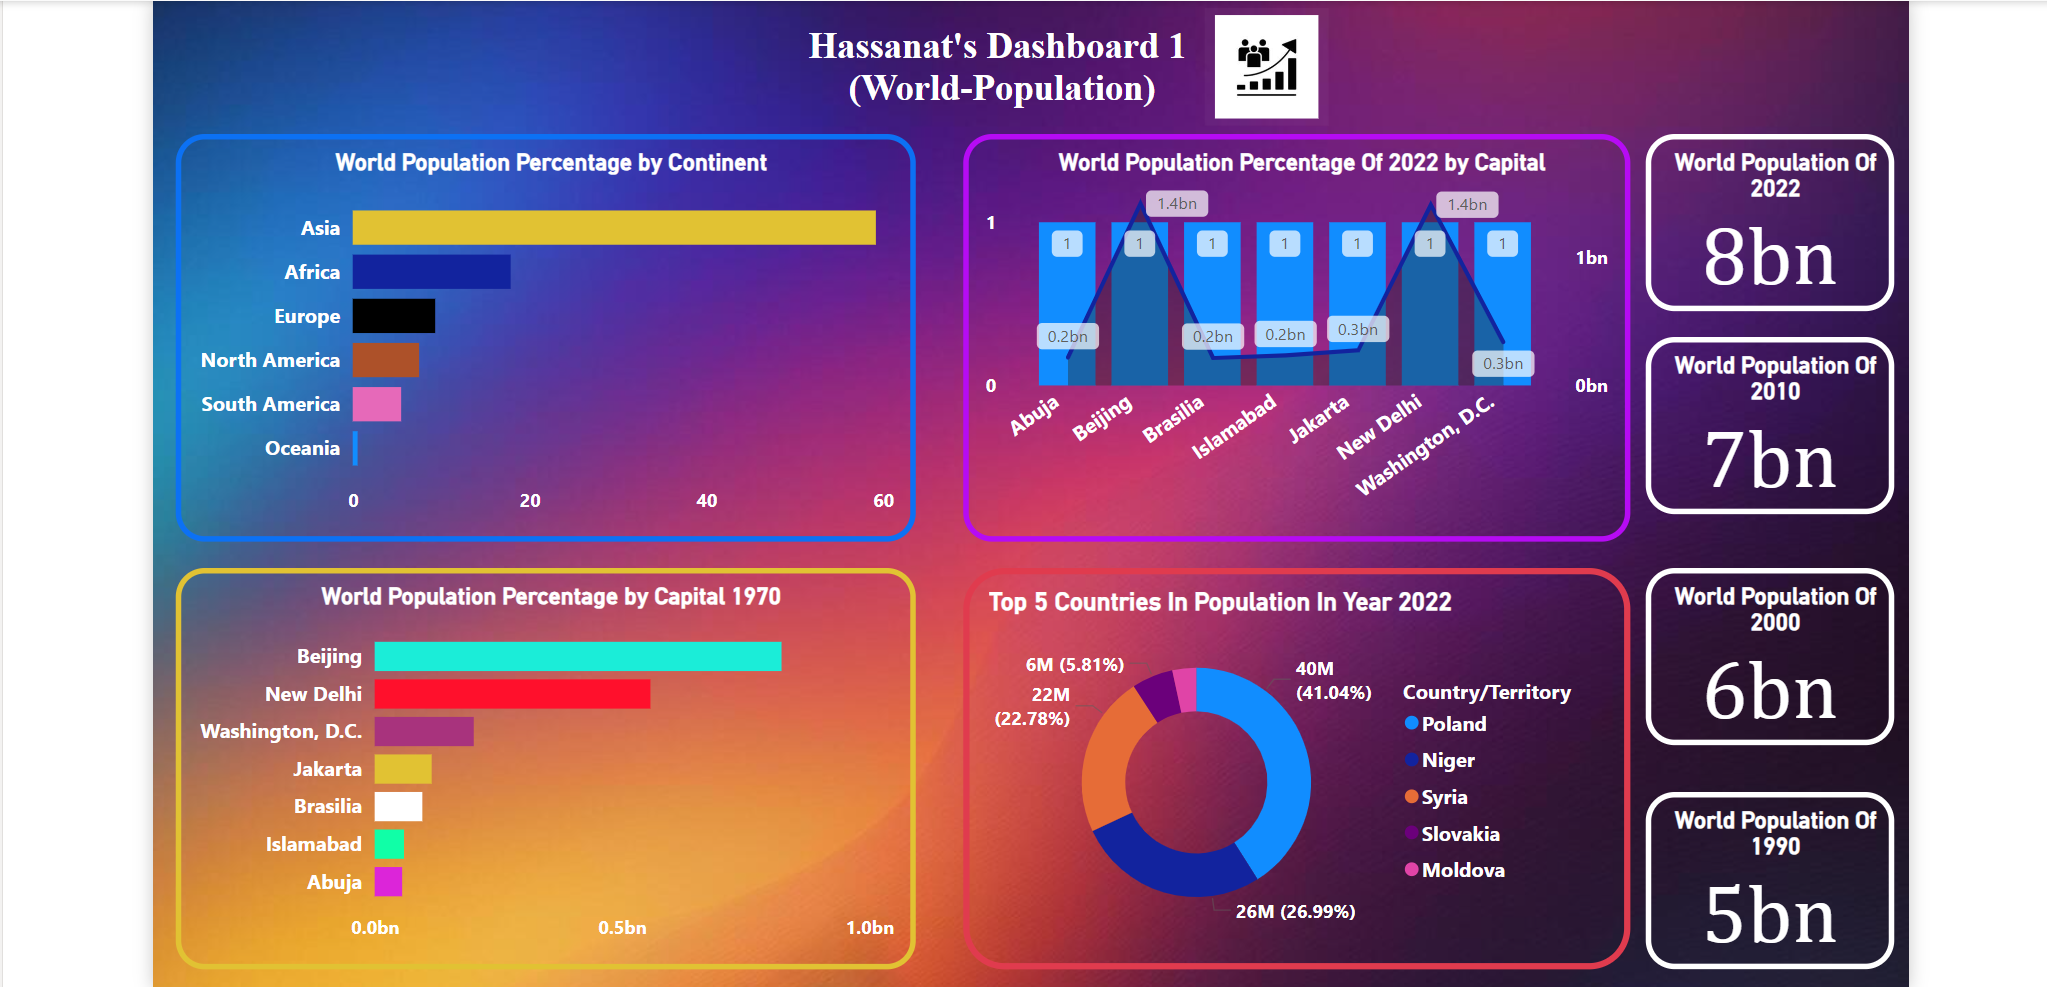

Layout of this report page (visuals, bound fields, positions):
{"tool":"powerbi","page":{"name":"Page 1","canvas":[1280,720],"ordinal":0},"visuals":[{"type":"textbox","box":[437,11.9,362.7,72.8],"z":0},{"type":"barChart","title":" World Population Percentage by Continent","fields":{"Category":["world_population.Continent"],"Y":["world_population.World Population Percentage"]},"box":[16.4,96.6,539.6,297.3],"z":1000},{"type":"barChart","title":" World Population Percentage by Capital 1970","fields":{"Category":["world_population.Capital"],"Y":["world_population.1970 Population"]},"box":[16.4,413.2,539.6,292.8],"z":2000},{"type":"lineStackedColumnComboChart","title":"World Population Percentage Of 2022 by Capital","fields":{"Y":["world_population.World Population Percentage"],"Category":["world_population.Capital"],"Y2":["world_population.2022 Population"]},"box":[590.1,96.6,486.1,297.3],"z":3000},{"type":"donutChart","title":"Top 5 Countries In Population In Year 2022 ","fields":{"Y":["world_population.2022 Population"],"Category":["world_population.Country/Territory"]},"box":[590.1,413.2,486.1,292.8],"z":4000},{"type":"card","title":"World Population Of 2022","fields":{"Values":["world_population.2022 Population"]},"box":[1088,96.6,181.3,129.3],"z":5000},{"type":"card","title":"World Population Of 2010","fields":{"Values":["world_population.2010 Population"]},"box":[1088,245.3,181.3,129.3],"z":6000},{"type":"card","title":"World Population Of 2000","fields":{"Values":["world_population.2000 Population"]},"box":[1088,413.2,181.3,129.3],"z":7000},{"type":"card","title":"World Population Of 1990","fields":{"Values":["world_population.1990 Population"]},"box":[1088,576.7,181.3,129.3],"z":8000},{"type":"image","box":[766.7,5.1,90.6,85.5],"z":8001}]}

Visuals, with their boxes in screenshot pixels (x1, y1, x2, y2):
textbox: rect(772, 48, 1261, 146)
" World Population Percentage by Continent" barChart: rect(203, 162, 932, 564)
" World Population Percentage by Capital 1970" barChart: rect(203, 590, 932, 986)
"World Population Percentage Of 2022 by Capital" lineStackedColumnComboChart: rect(978, 162, 1635, 564)
"Top 5 Countries In Population In Year 2022 " donutChart: rect(978, 590, 1635, 986)
"World Population Of 2022" card: rect(1651, 162, 1896, 337)
"World Population Of 2010" card: rect(1651, 363, 1896, 538)
"World Population Of 2000" card: rect(1651, 590, 1896, 765)
"World Population Of 1990" card: rect(1651, 811, 1896, 986)
image: rect(1217, 39, 1339, 154)
